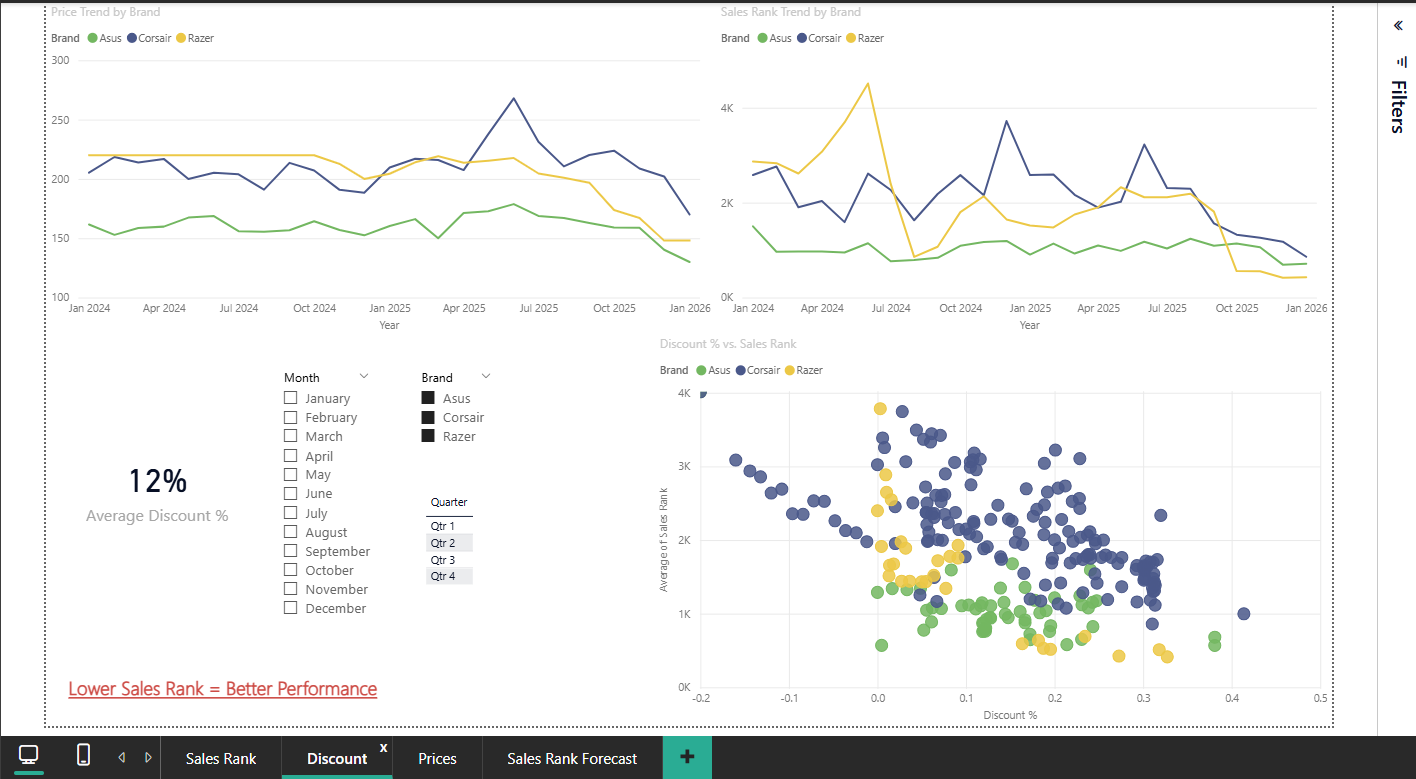

The page's visual inventory and layout, read from the dashboard file:
{"tool":"powerbi","page":{"name":"Discount","canvas":[1280,720],"ordinal":1},"visuals":[{"type":"lineChart","title":"Price Trend by Brand","fields":{"Series":["All_Keyboards.Brand"],"Category":["All_Keyboards.Time.Variation.Date Hierarchy.Year","All_Keyboards.Time.Variation.Date Hierarchy.Month"],"Y":["Avg(All_Keyboards.New Price)"]},"box":[0,0,666.7,331.4],"z":0},{"type":"card","fields":{"Values":["All_Keyboards.Average Discount %"]},"box":[27.2,435,167,95.8],"z":1000},{"type":"scatterChart","title":"Discount % vs. Sales Rank","fields":{"X":["All_Keyboards.Discount %"],"Y":["Avg(All_Keyboards.Sales Rank)"],"Series":["All_Keyboards.Brand"]},"box":[605.8,331.4,674.4,388.4],"z":2000},{"type":"slicer","fields":{"Values":["All_Keyboards.Time.Variation.Date Hierarchy.Month"]},"box":[223.9,359.9,110,266.7],"z":4000},{"type":"lineChart","title":"Sales Rank Trend by Brand","fields":{"Series":["All_Keyboards.Brand"],"Y":["Avg(All_Keyboards.Sales Rank)"],"Category":["All_Keyboards.Time.Variation.Date Hierarchy.Year","All_Keyboards.Time.Variation.Date Hierarchy.Month"]},"box":[666.7,0,613.6,331.4],"z":5000},{"type":"tableEx","fields":{"Values":["All_Keyboards.Time.Variation.Date Hierarchy.Quarter"]},"box":[371.5,482.8,72.5,112.6],"z":6000},{"type":"textbox","box":[16.8,664.1,354.7,44],"z":7000},{"type":"slicer","fields":{"Values":["All_Keyboards.Brand"]},"box":[360.7,359.5,94.5,113.2],"z":7001}]}

Visuals, with their boxes on the page's 1280x720 design canvas (x1, y1, x2, y2). These are canvas units, not pixel positions in the 1416x779 screenshot, which may show the page scaled, cropped or inside an application window:
"Price Trend by Brand" lineChart: box(0, 0, 667, 331)
card - All_Keyboards.Average Discount %: box(27, 435, 194, 531)
"Discount % vs. Sales Rank" scatterChart: box(606, 331, 1280, 720)
slicer - All_Keyboards.Time.Variation.Date Hierarchy.Month: box(224, 360, 334, 627)
"Sales Rank Trend by Brand" lineChart: box(667, 0, 1280, 331)
tableEx - All_Keyboards.Time.Variation.Date Hierarchy.Quarter: box(372, 483, 444, 595)
textbox: box(17, 664, 372, 708)
slicer - All_Keyboards.Brand: box(361, 360, 455, 473)
